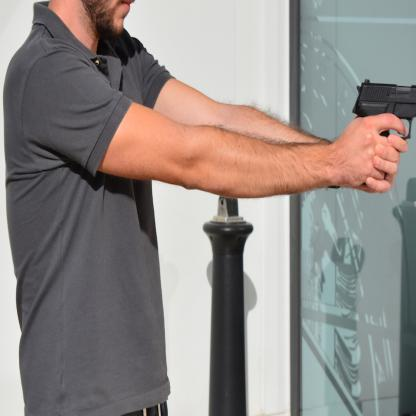gun: (352, 78, 416, 139)
